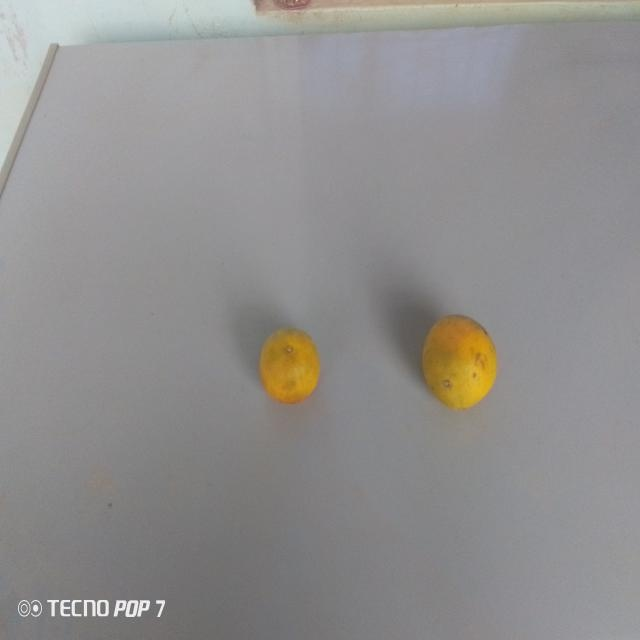agrume: (407, 306, 503, 412), (244, 314, 335, 417)
